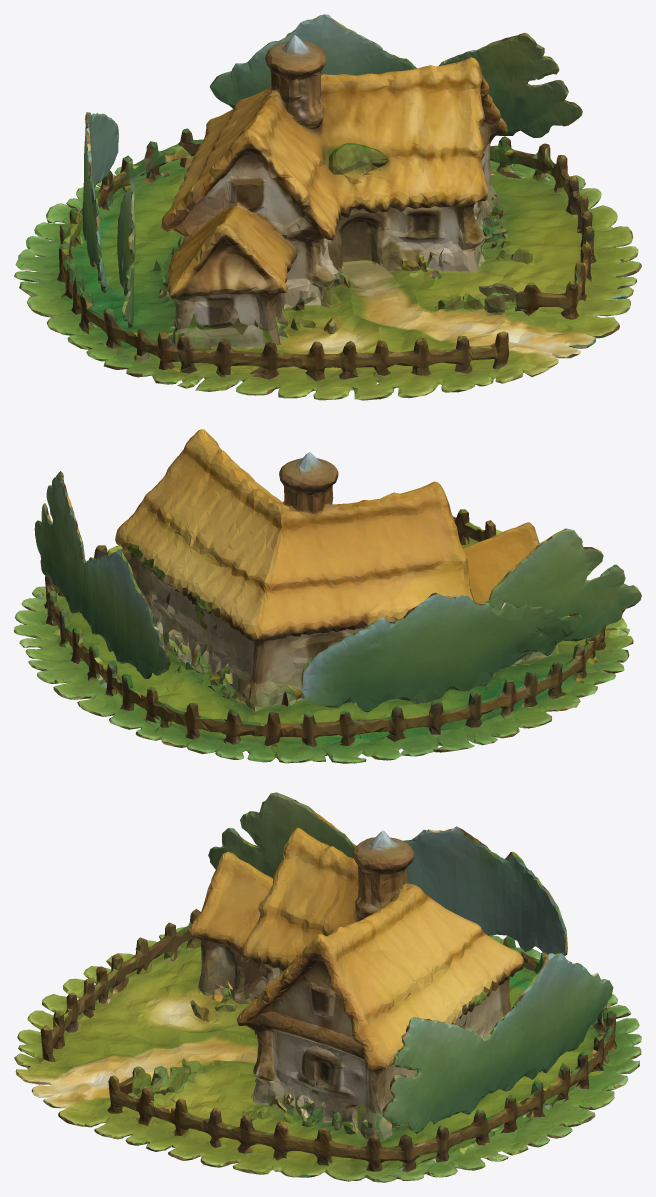
Rendered from wc-farmhouse-paint.glb.
The picture shows the model from 3 angles, top to bottom: view 1: azimuth 30°, elevation 25°; view 2: azimuth 150°, elevation 25°; view 3: azimuth 270°, elevation 25°; orthographic projection. The views are drawn at different scales.
Parts seen in each view (by area): view 1: geometry_0; view 2: geometry_0; view 3: geometry_0.
Boxes of the visible parts, x1,y1,x2,y2 form: geometry_0: (14,14,641,400); geometry_0: (14,429,641,763); geometry_0: (14,792,641,1182).
Bounding box in the file's own units: 2 × 0.7729 × 1.99.
Materials: 1 (1 with a texture image).
